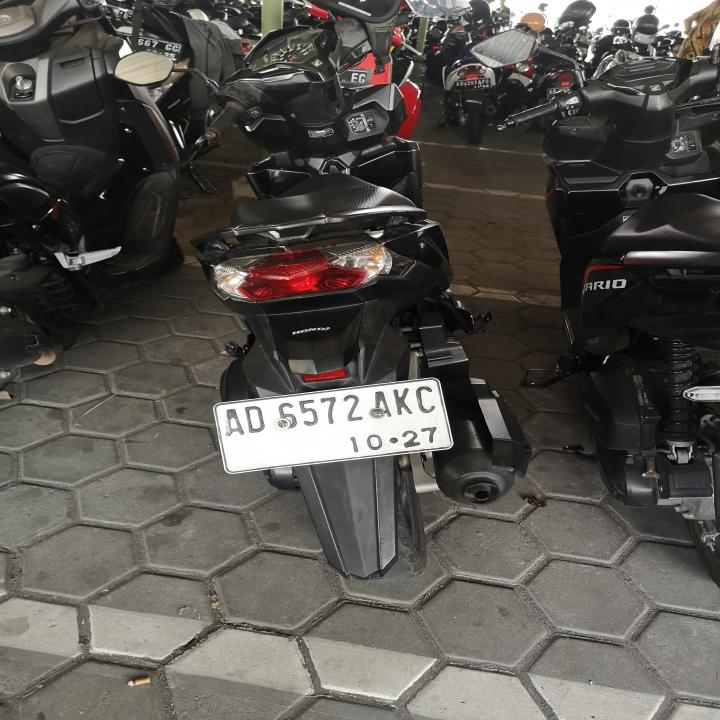plate: (211, 374, 458, 476)
